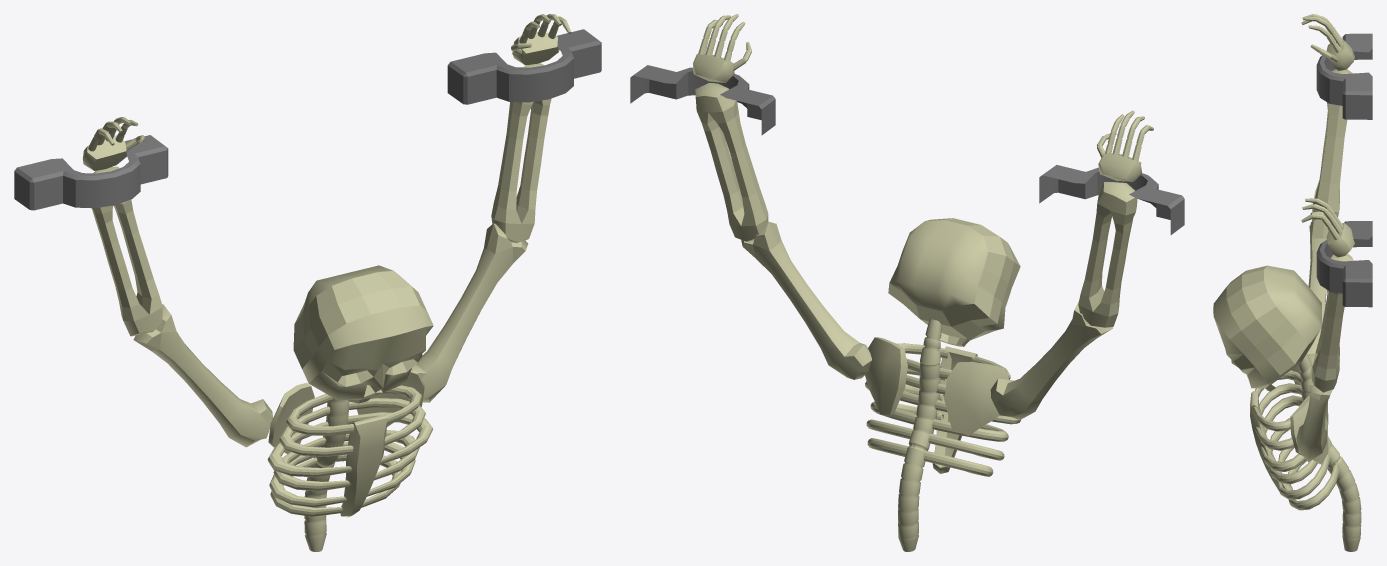
The model's file is Cadaver3.fbx.
The picture shows the model from 3 angles, left to right: view 1: azimuth 30°, elevation 25°; view 2: azimuth 150°, elevation 25°; view 3: azimuth 270°, elevation 25°; orthographic projection. The views are drawn at different scales.
Visible parts, largest first — view 1: polySurface254; view 2: polySurface254; view 3: polySurface254.
Part boxes in pixels (bbox=[...]): polySurface254: bbox=[14, 14, 601, 551]; polySurface254: bbox=[630, 14, 1184, 551]; polySurface254: bbox=[1213, 14, 1372, 551].
Size of the model in its own units: 278 by 231 by 75.68.
